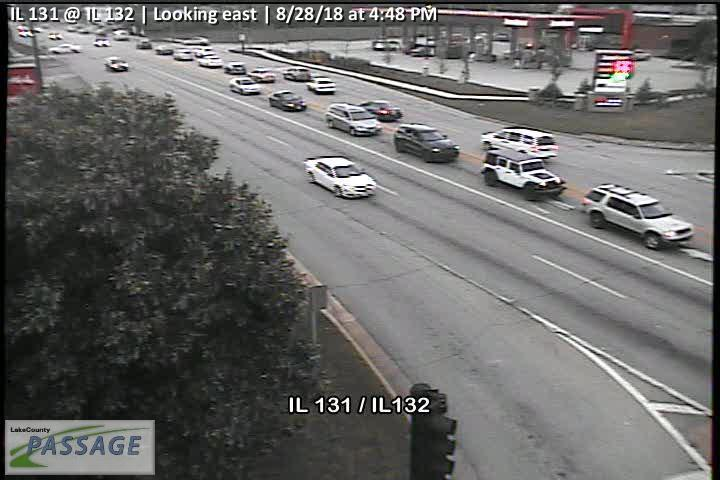SUV: (581, 182, 694, 250), (480, 148, 567, 201), (393, 122, 461, 164), (480, 126, 558, 162), (324, 102, 384, 137), (305, 75, 337, 95), (282, 67, 311, 83), (103, 55, 129, 72), (198, 54, 224, 68), (224, 61, 247, 74), (192, 44, 215, 57), (172, 48, 194, 61), (135, 38, 152, 49)
Sedan: (304, 154, 378, 199), (358, 100, 403, 123), (267, 90, 307, 112), (229, 76, 260, 95), (246, 67, 276, 83), (47, 43, 81, 54), (153, 43, 173, 55)
